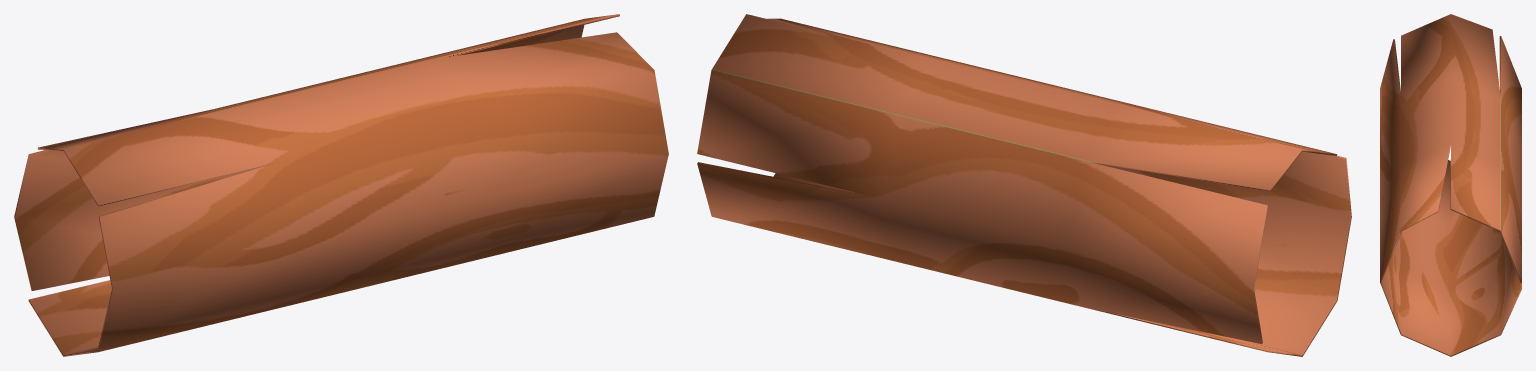
The model's file is OBJ_Wood_002.fbx.
The picture shows the model from 3 angles, left to right: view 1: azimuth 30°, elevation 25°; view 2: azimuth 150°, elevation 25°; view 3: azimuth 270°, elevation 25°; orthographic projection. The views are drawn at different scales.
Visible parts, largest first — view 1: Wood_002; view 2: Wood_002; view 3: Wood_002.
Part boxes in pixels (x1,y1,x2,y2): Wood_002: (14,14,668,356); Wood_002: (697,14,1351,356); Wood_002: (1380,14,1521,356).
Bounding box in the file's own units: 1143 × 405 × 350.
